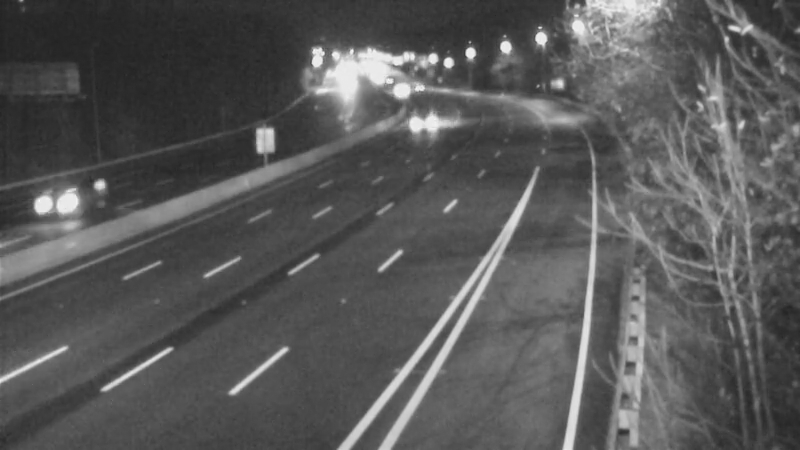vehicle: (19, 165, 99, 245), (376, 66, 426, 116), (404, 96, 454, 146)
